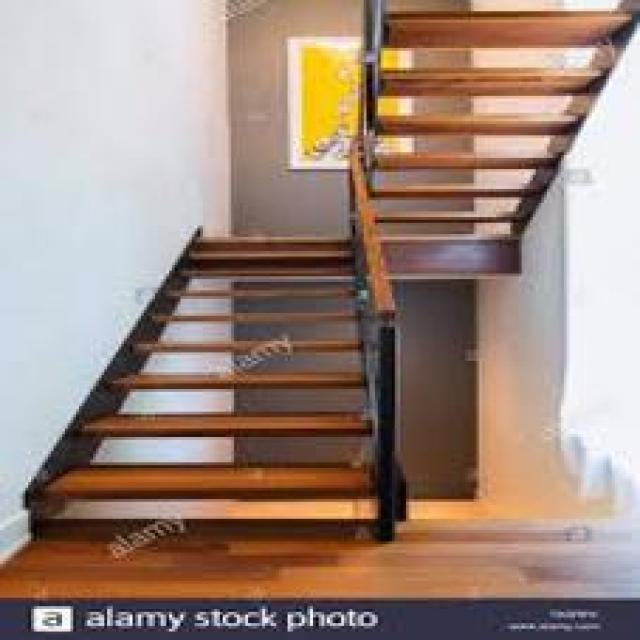upstair: (57, 269, 379, 511)
